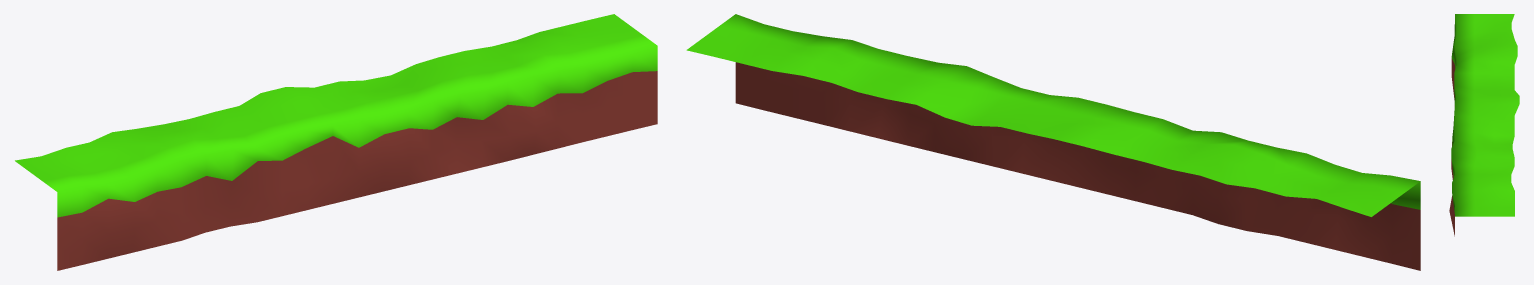
The model's file is ground.fbx.
3 renders of one model, left to right at view 1: azimuth 30°, elevation 25°; view 2: azimuth 150°, elevation 25°; view 3: azimuth 270°, elevation 25°, orthographic. The views are drawn at different scales.
Visible parts, largest first — view 1: Cube; view 2: Cube; view 3: Cube.
Part boxes in pixels (x1=…): Cube: x1=15, y1=14, x2=657, y2=270; Cube: x1=686, y1=14, x2=1420, y2=270; Cube: x1=1449, y1=14, x2=1519, y2=236.
Bounding box in the file's own units: 1600 × 215 × 234.
